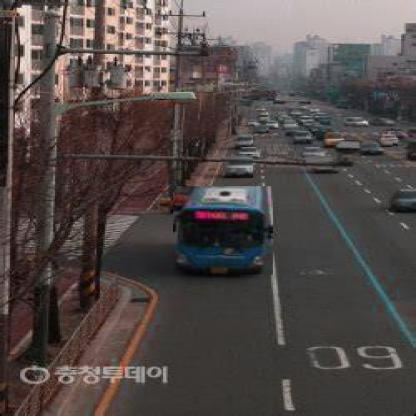bus: (174, 187, 276, 277)
car: (222, 158, 256, 181), (389, 191, 415, 215), (231, 135, 254, 150), (374, 118, 399, 129), (290, 132, 309, 145), (325, 134, 344, 146), (302, 148, 317, 160), (381, 138, 396, 149), (255, 123, 269, 134), (285, 121, 299, 132), (347, 117, 366, 125), (362, 145, 379, 153), (304, 122, 314, 127), (257, 114, 267, 118)
